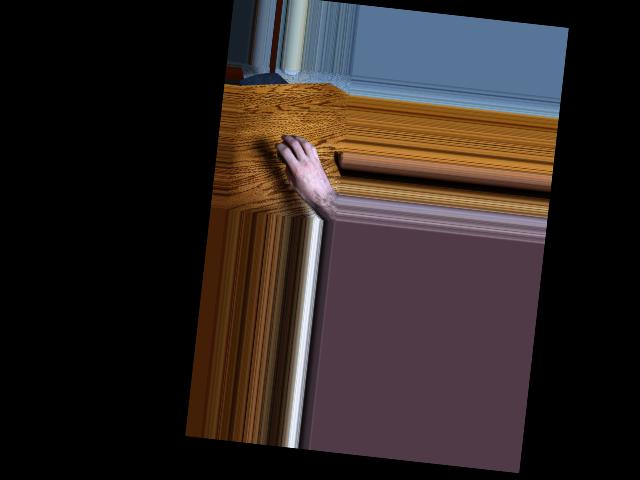onion: (275, 137, 302, 168)
